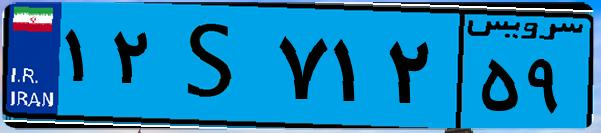1: (330, 28, 385, 110), (57, 26, 110, 100)
2: (385, 28, 445, 110), (110, 28, 158, 98)
5: (475, 38, 525, 113)
7: (270, 28, 330, 110)
9: (525, 38, 570, 115)
S: (158, 12, 270, 120)
